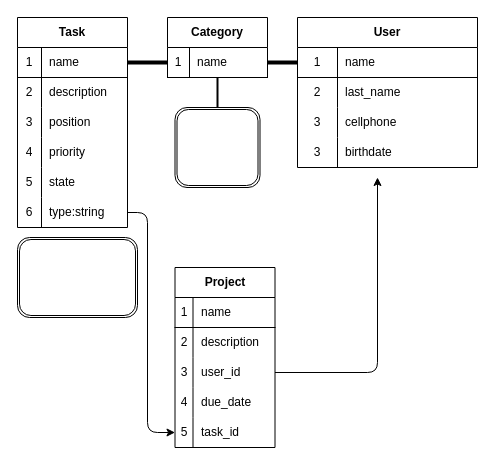
The diagram is 495 pixels wide and 465 high, and some of its shapes have lost their labels. Each missing label, with the centre of its shape:
"hereda de task subtask" belongs at (x=77, y=277).
"polymorphic assoccition" belongs at (x=217, y=147).
